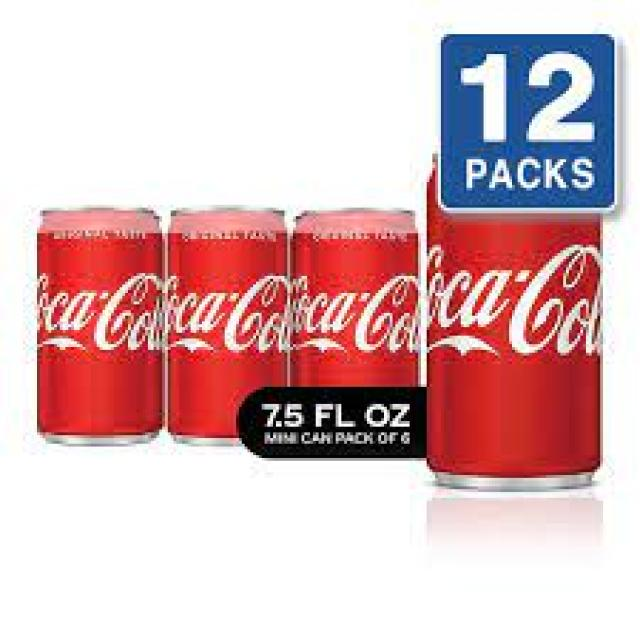Coca-Cola: (424, 147, 606, 496), (30, 194, 168, 455), (290, 201, 423, 458), (170, 192, 290, 450)
